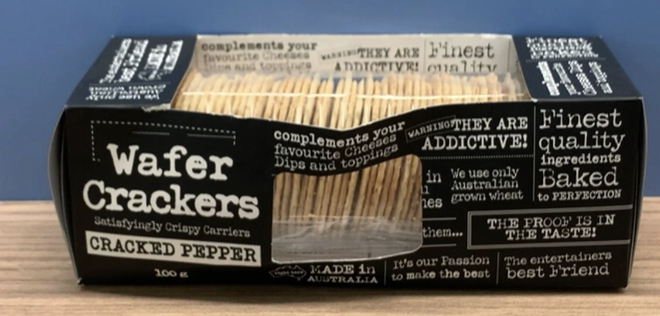crackers_100g-199g: (81, 66, 622, 283)
